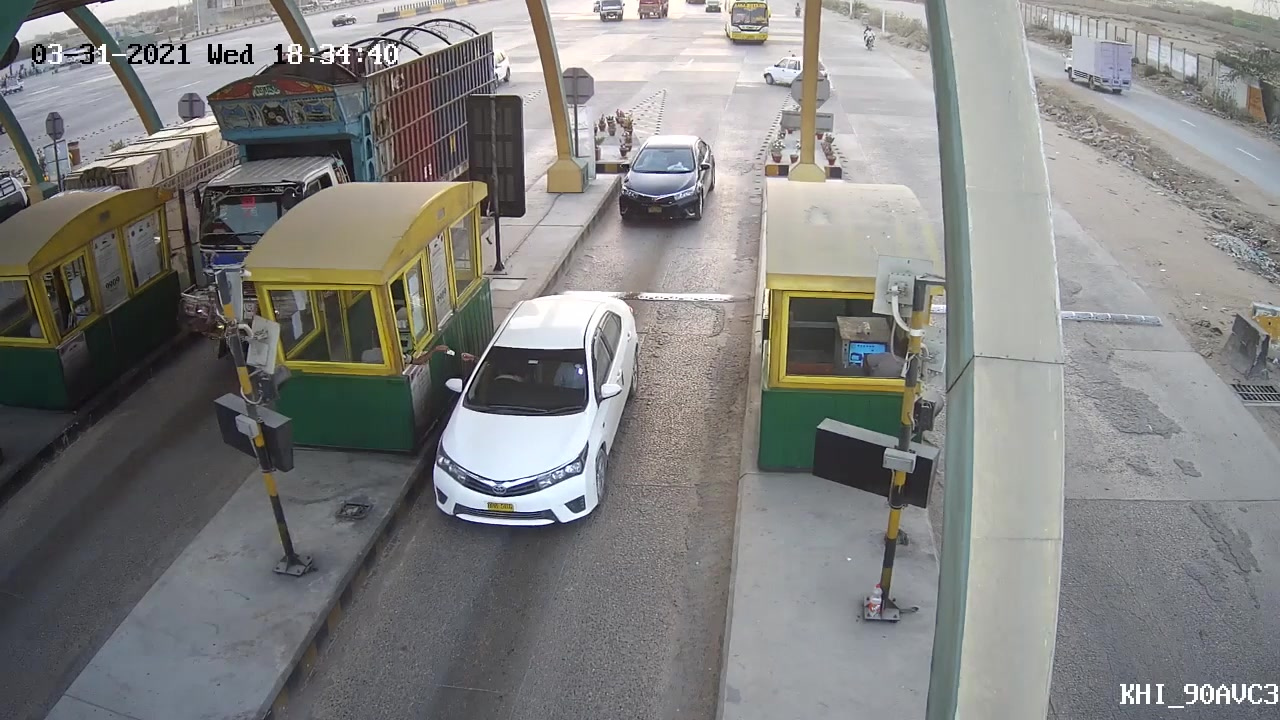F1: (423, 285, 645, 534), (612, 129, 721, 232)
